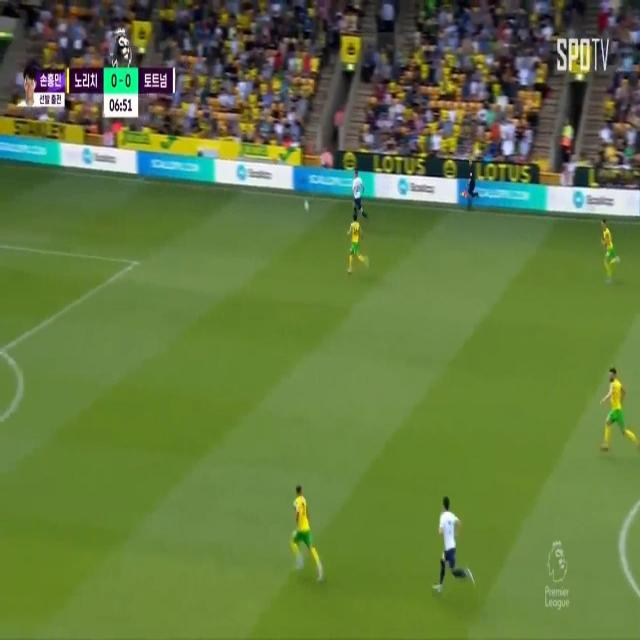ball: (302, 198, 314, 211)
player: (289, 481, 316, 571), (438, 493, 459, 588), (603, 365, 625, 449), (598, 211, 618, 285), (344, 206, 364, 276), (348, 168, 368, 230)
referee: (465, 154, 479, 214)
